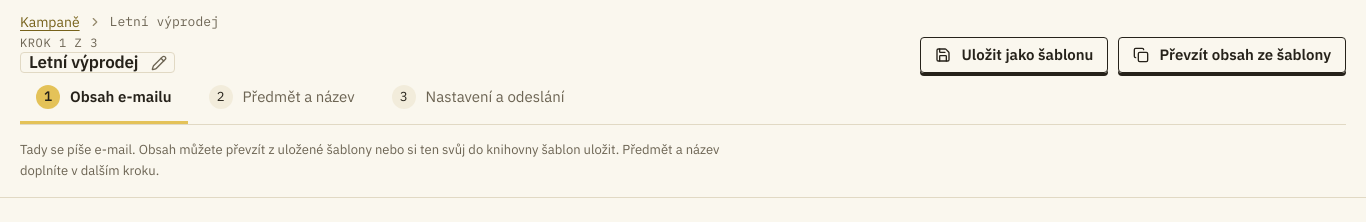
editor jako krok 1 kampaně › prázdná knihovna to v nabídce řekne a nenabízí nic k převzetí
What coordinates should you click on to do the following:
click the button with test id "use-library-open"
I would click on:
 (1232, 55)
Its box is [1118,37,1346,73].
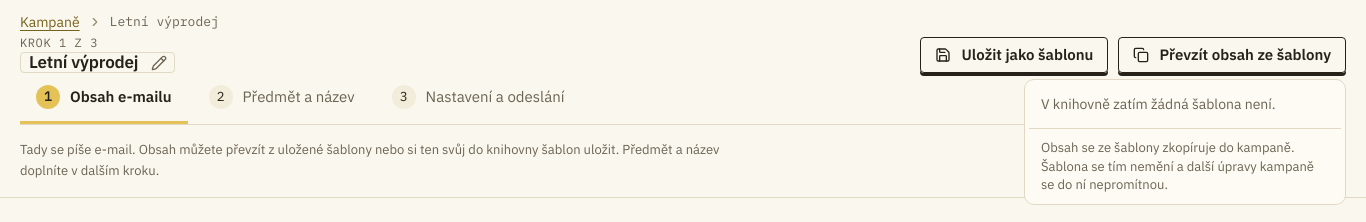
expect the text "V knihovně zatím žádná šablona není." is shown: met, box [1041,95,1276,113]
